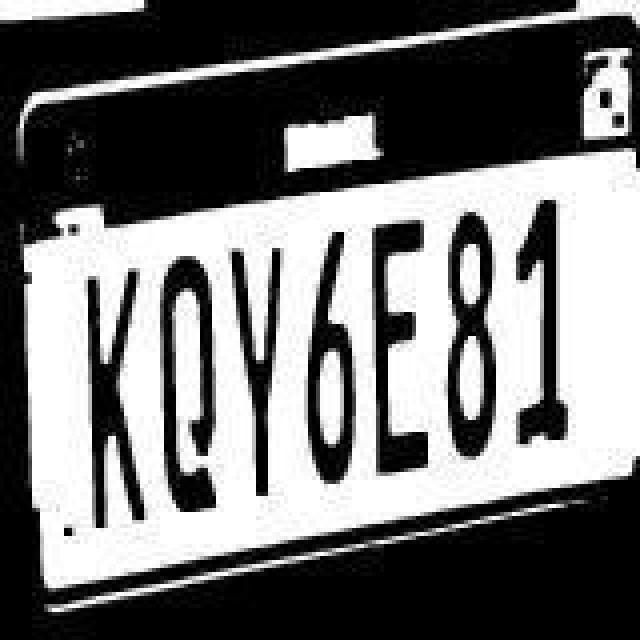1: (508, 194, 572, 446)
6: (298, 232, 358, 504)
8: (444, 210, 500, 462)
E: (370, 216, 430, 480)
K: (76, 266, 148, 534)
Q: (158, 254, 226, 514)
Y: (228, 244, 284, 508)
